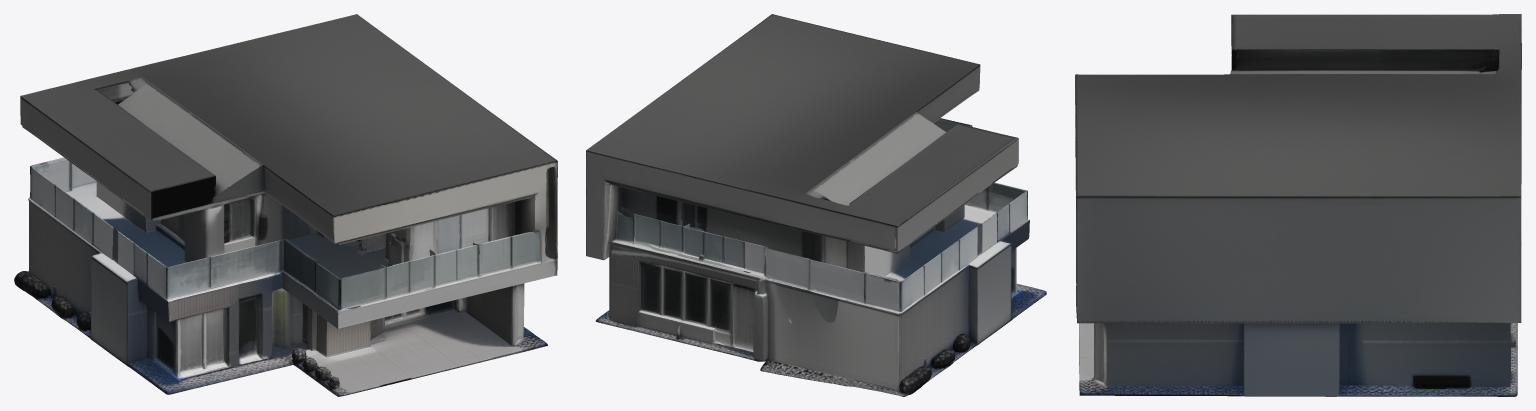
The model's file is domek_2.glb.
3 renders of one model, left to right at view 1: azimuth 30°, elevation 25°; view 2: azimuth 150°, elevation 25°; view 3: azimuth 270°, elevation 25°, orthographic. The views are drawn at different scales.
Visible parts, largest first — view 1: world; view 2: world; view 3: world.
Part boxes in pixels (<box>): world: <box>14,14,557,396</box>; world: <box>586,14,1046,396</box>; world: <box>1075,14,1521,396</box>.
Bounding box in the file's own units: 0.9999 × 0.5273 × 0.9976.
1 material, 1 textured.
